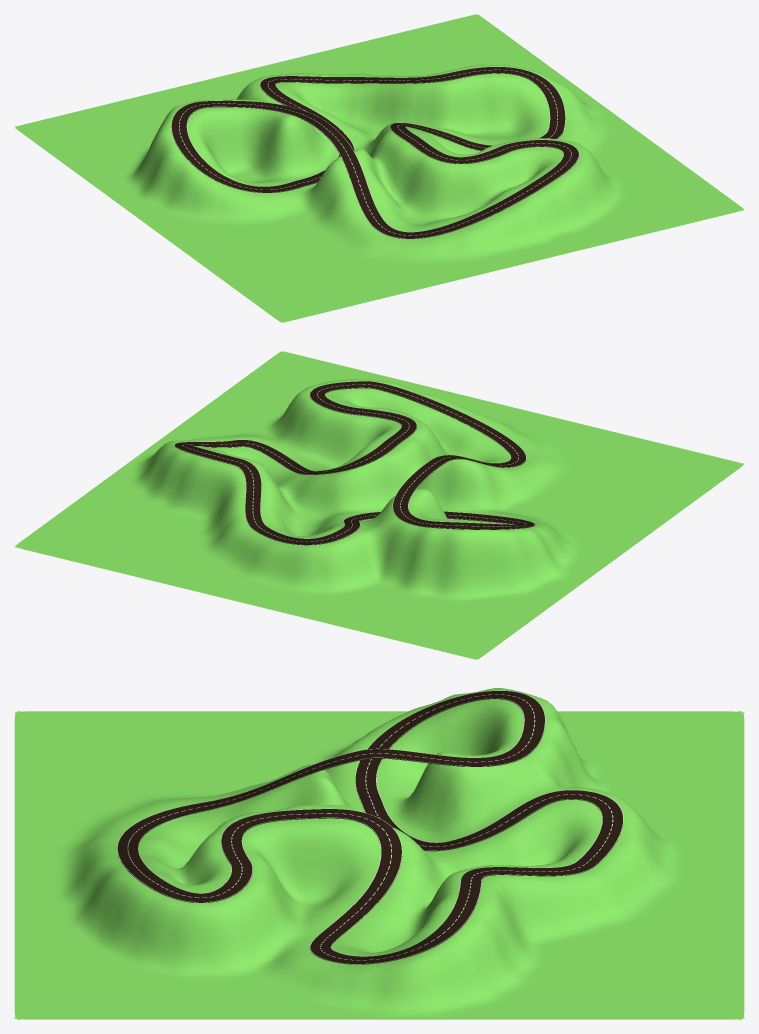
File: VeryNew.fbx
3 views of the same model, one above another, from view 1: azimuth 30°, elevation 25°; view 2: azimuth 150°, elevation 25°; view 3: azimuth 270°, elevation 25° (orthographic). The views are drawn at different scales.
Parts seen in each view (by area): view 1: Ground, Road; view 2: Ground, Road; view 3: Ground, Road.
Part boxes in pixels (box(x1,y1,x2,y2)): Ground: box(14, 14, 744, 322); Road: box(171, 66, 579, 238); Ground: box(14, 351, 744, 659); Road: box(174, 381, 535, 545); Ground: box(14, 688, 744, 1019); Road: box(117, 690, 623, 964).
Bounding box in the file's own units: 50866 × 5784 × 50866.
